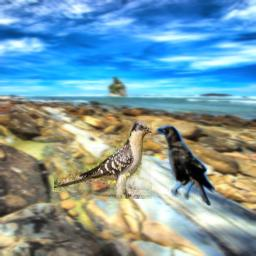Crow: (154, 124, 215, 206)
Cuckoo: (54, 120, 152, 199)
